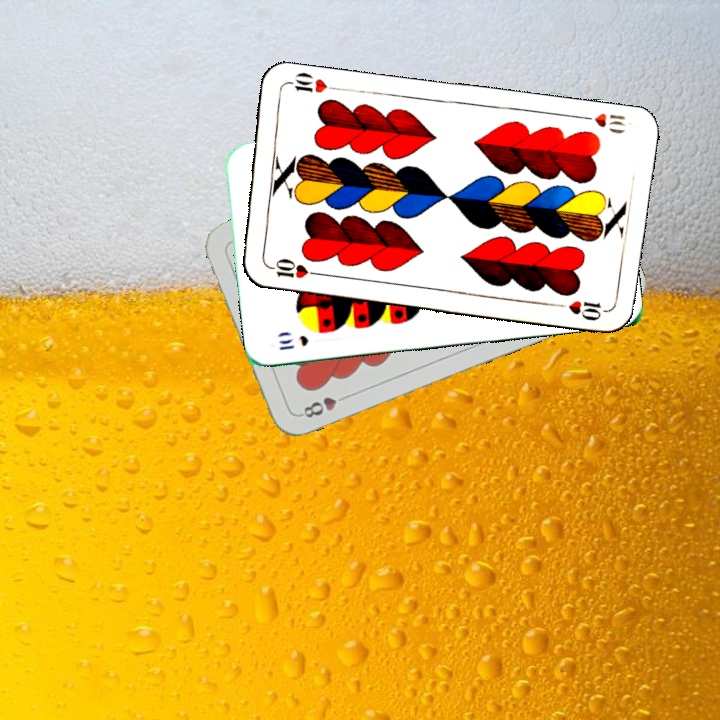H10: (263, 255, 322, 281), (575, 109, 628, 137)
H8: (296, 390, 352, 421)
S10: (275, 331, 311, 353)
